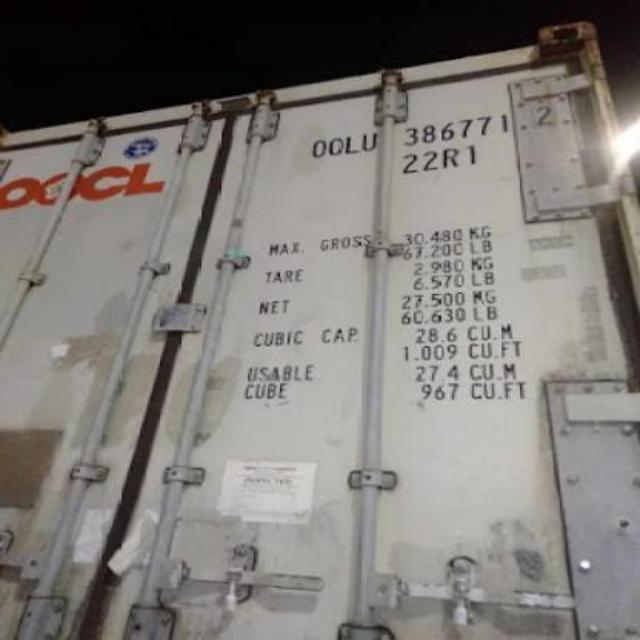1: (494, 108, 514, 142)
2: (530, 100, 562, 130)
3: (402, 118, 420, 148)
6: (436, 117, 458, 147)
7: (472, 109, 492, 141), (454, 114, 472, 144)
8: (418, 118, 436, 150)
L: (342, 126, 362, 164)
O: (304, 130, 328, 163), (326, 128, 344, 162)
U: (357, 121, 378, 162)
